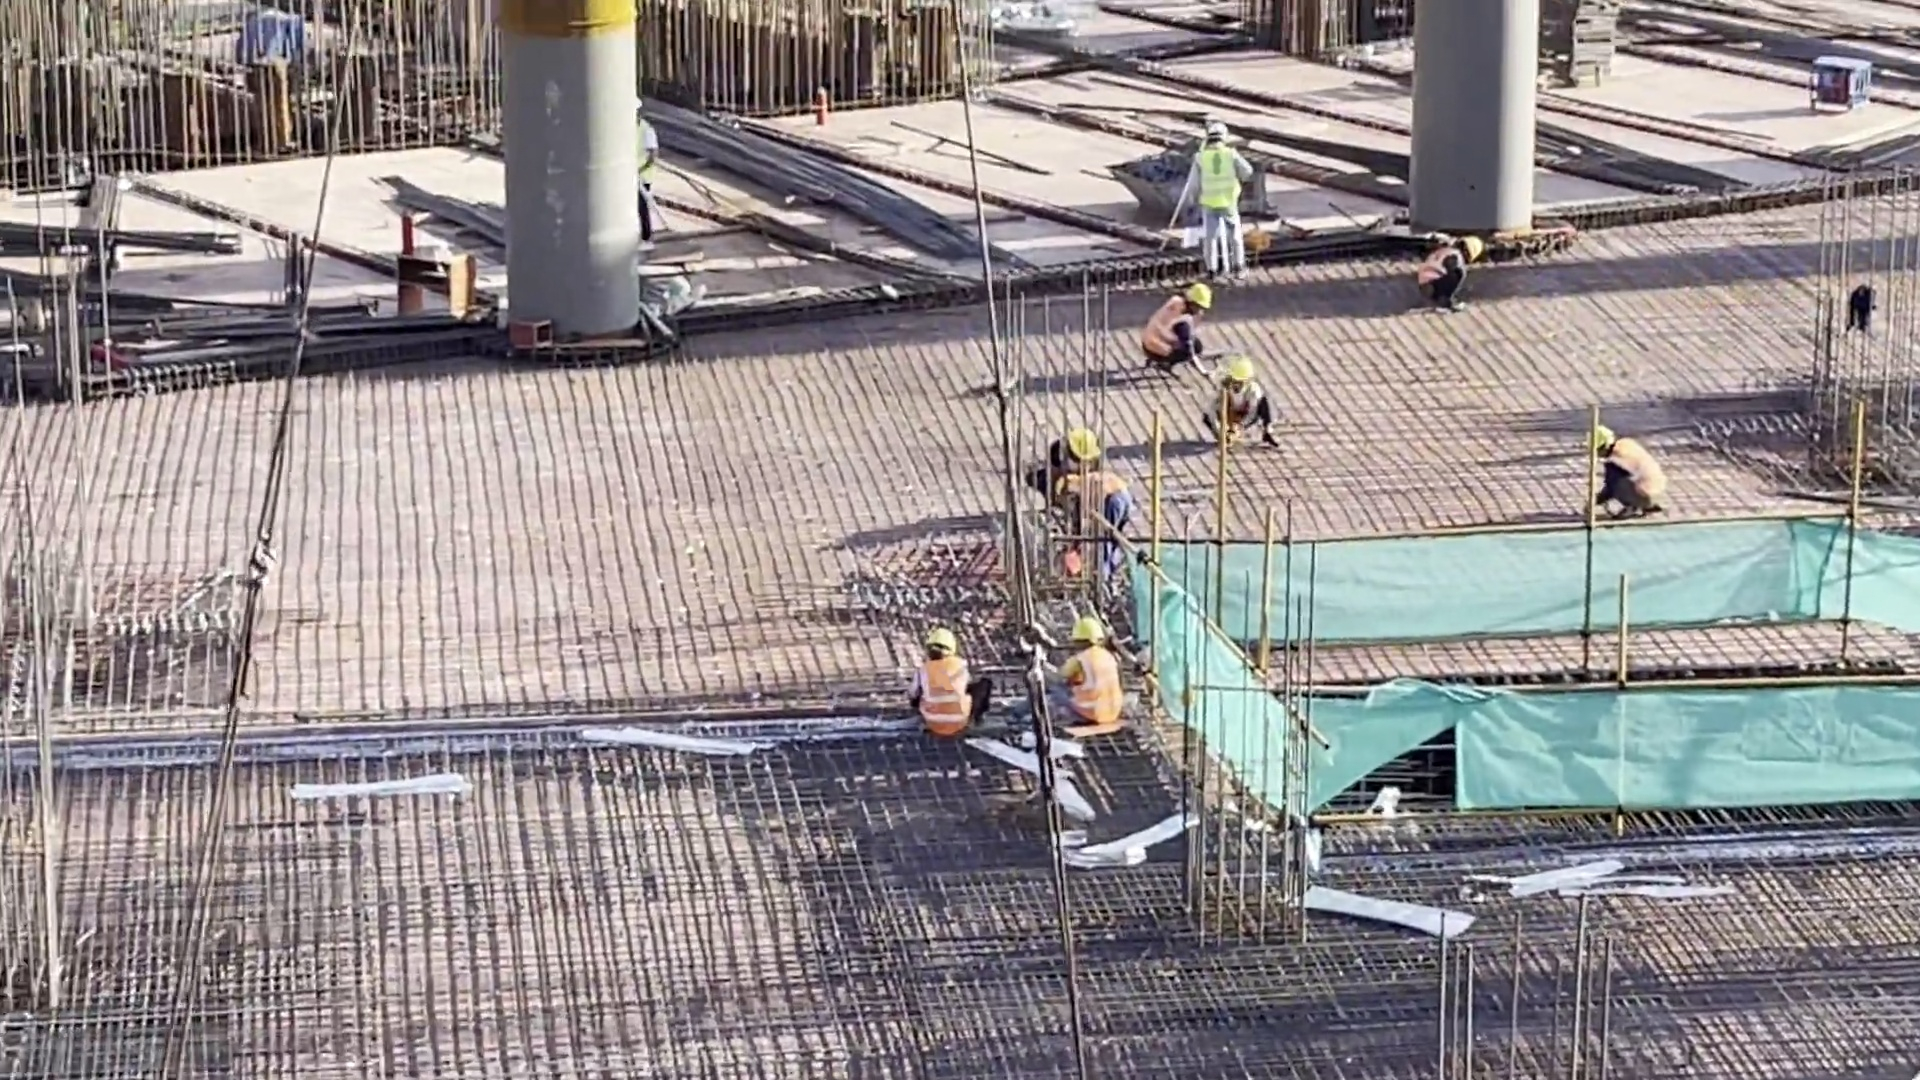helmet: (1064, 428, 1102, 467), (1074, 611, 1107, 643), (1187, 283, 1210, 315), (925, 631, 954, 657), (1589, 423, 1611, 452), (1464, 235, 1487, 257), (1231, 361, 1252, 386), (1057, 478, 1075, 500), (1208, 122, 1227, 136)
person: (1172, 120, 1257, 280), (1036, 615, 1136, 738), (904, 628, 1000, 746), (1581, 413, 1674, 520), (1191, 358, 1290, 454), (1049, 463, 1133, 571), (1131, 279, 1224, 373), (1415, 230, 1488, 313), (1025, 428, 1100, 497), (628, 94, 659, 241)
vest: (1069, 653, 1120, 723), (919, 668, 969, 737), (1612, 444, 1664, 505), (1192, 152, 1236, 208), (1080, 481, 1128, 529), (1139, 299, 1180, 354), (1412, 246, 1454, 293), (1223, 394, 1258, 428), (634, 125, 655, 179)
